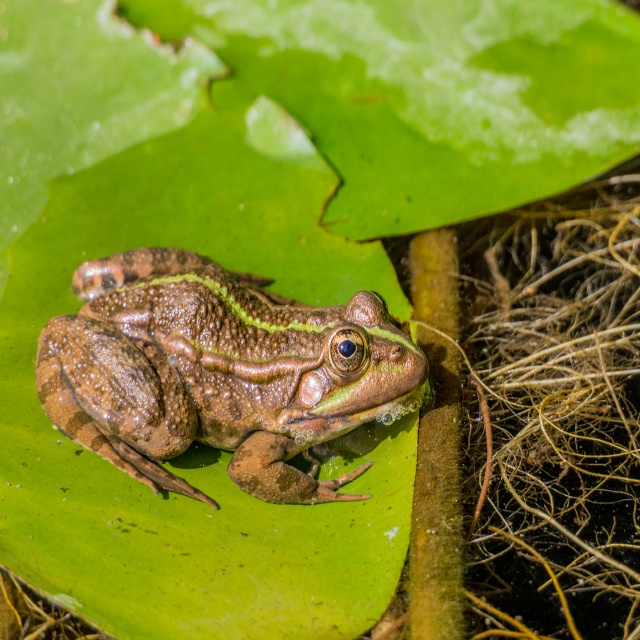Frog: (35, 247, 429, 510)
